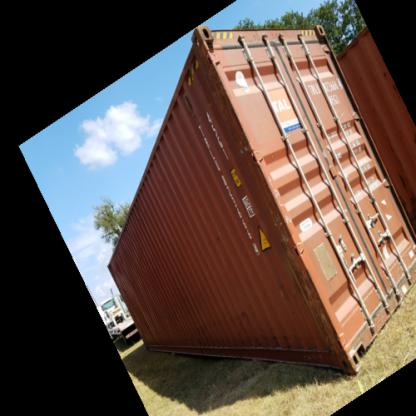Damage: (268, 208, 340, 359), (197, 44, 256, 156), (185, 309, 253, 332), (116, 245, 132, 296)
